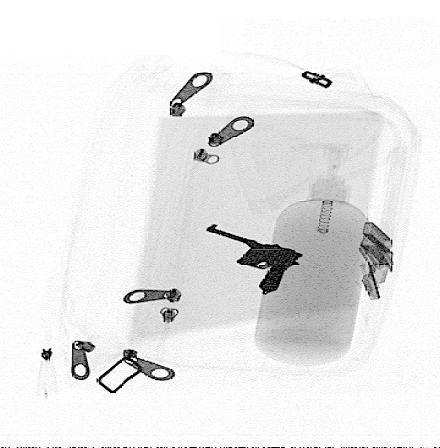Gun: (206, 222, 306, 293)
